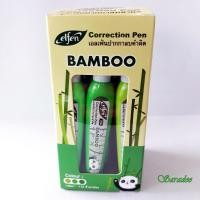Correction_fluid: (84, 75, 114, 175)
